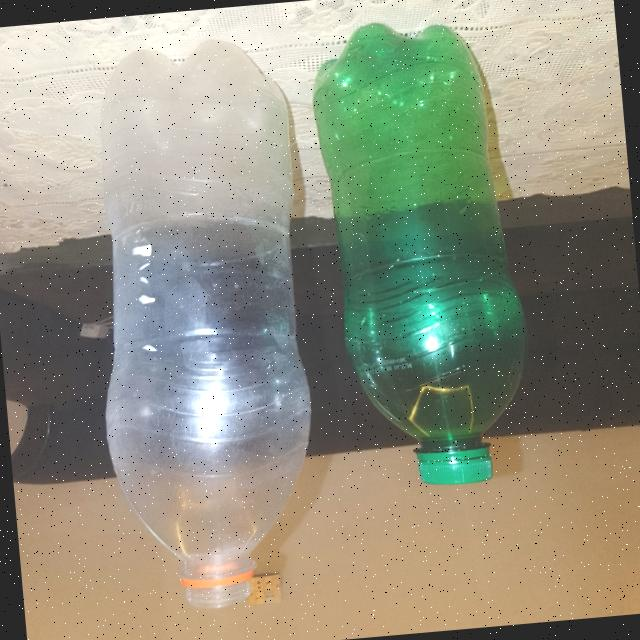bottle: (58, 34, 343, 630), (302, 1, 554, 507)
cap: (404, 433, 508, 492)
